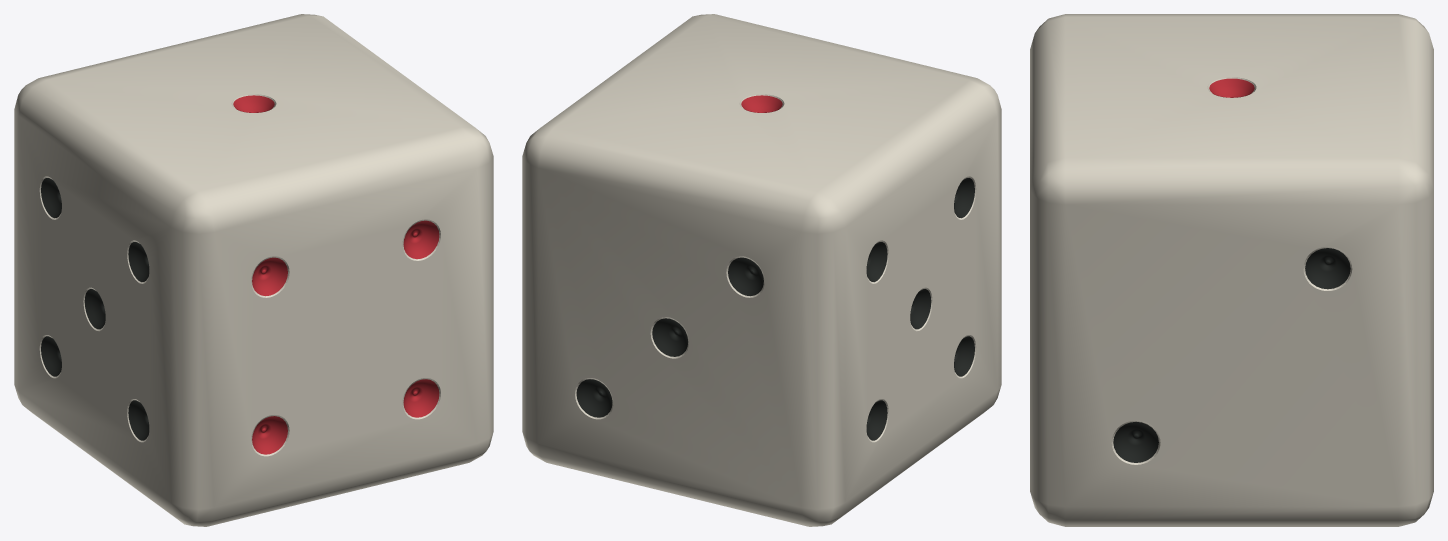
Rendered from dice.glb.
3 renders of one model, left to right at view 1: azimuth 30°, elevation 25°; view 2: azimuth 150°, elevation 25°; view 3: azimuth 270°, elevation 25°, orthographic. The views are drawn at different scales.
Parts seen in each view (by area): view 1: Rounded ivory die, Red pip.002, Red pip.001, Red pip.003, Red pip.004, Black pip.015, Black pip.012, Black pip.013, Black pip.011, Black pip.014, Red pip; view 2: Rounded ivory die, Black pip.006, Black pip.007, Black pip.008, Black pip.014, Black pip.011, Black pip.013, Black pip.012, Black pip.015, Red pip; view 3: Rounded ivory die, Black pip.009, Black pip.010, Red pip.
Boxes of the visible parts, box(x1,y1,x2,y2) form: Rounded ivory die: box(14, 14, 493, 526); Red pip.002: box(403, 379, 439, 417); Red pip.001: box(252, 416, 287, 454); Red pip.003: box(252, 257, 287, 296); Red pip.004: box(403, 220, 439, 259); Black pip.015: box(128, 242, 149, 282); Black pip.012: box(128, 400, 149, 440); Black pip.013: box(84, 289, 105, 329); Black pip.011: box(41, 336, 61, 376); Black pip.014: box(41, 178, 61, 218); Red pip: box(233, 95, 274, 112); Rounded ivory die: box(522, 14, 1001, 526); Black pip.006: box(576, 379, 612, 417); Black pip.007: box(652, 318, 688, 356); Black pip.008: box(728, 257, 763, 296); Black pip.014: box(866, 242, 887, 282); Black pip.011: box(866, 400, 887, 440); Black pip.013: box(910, 289, 931, 329); Black pip.012: box(954, 336, 974, 376); Black pip.015: box(954, 178, 974, 218); Red pip: box(741, 95, 782, 112); Rounded ivory die: box(1030, 14, 1433, 526); Black pip.009: box(1113, 421, 1158, 462); Black pip.010: box(1305, 248, 1350, 289); Red pip: box(1209, 78, 1254, 97).
Size of the model in its own units: 0.016 by 0.016 by 0.016.
